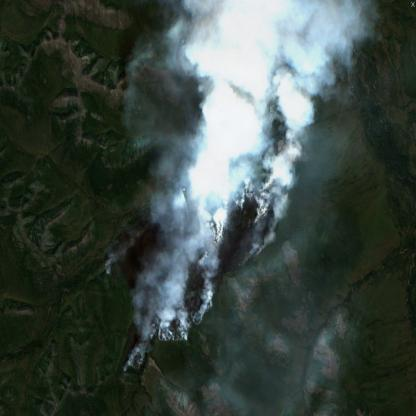fire: (100, 85, 288, 375)
